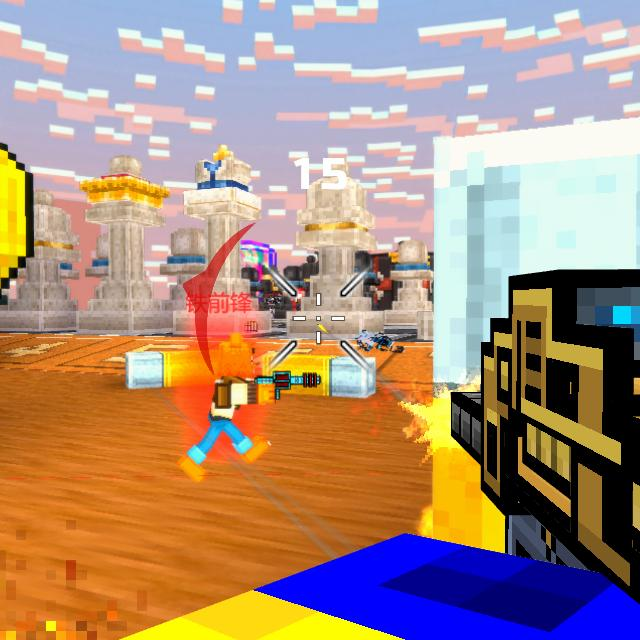Enemy: (175, 339, 278, 480)
